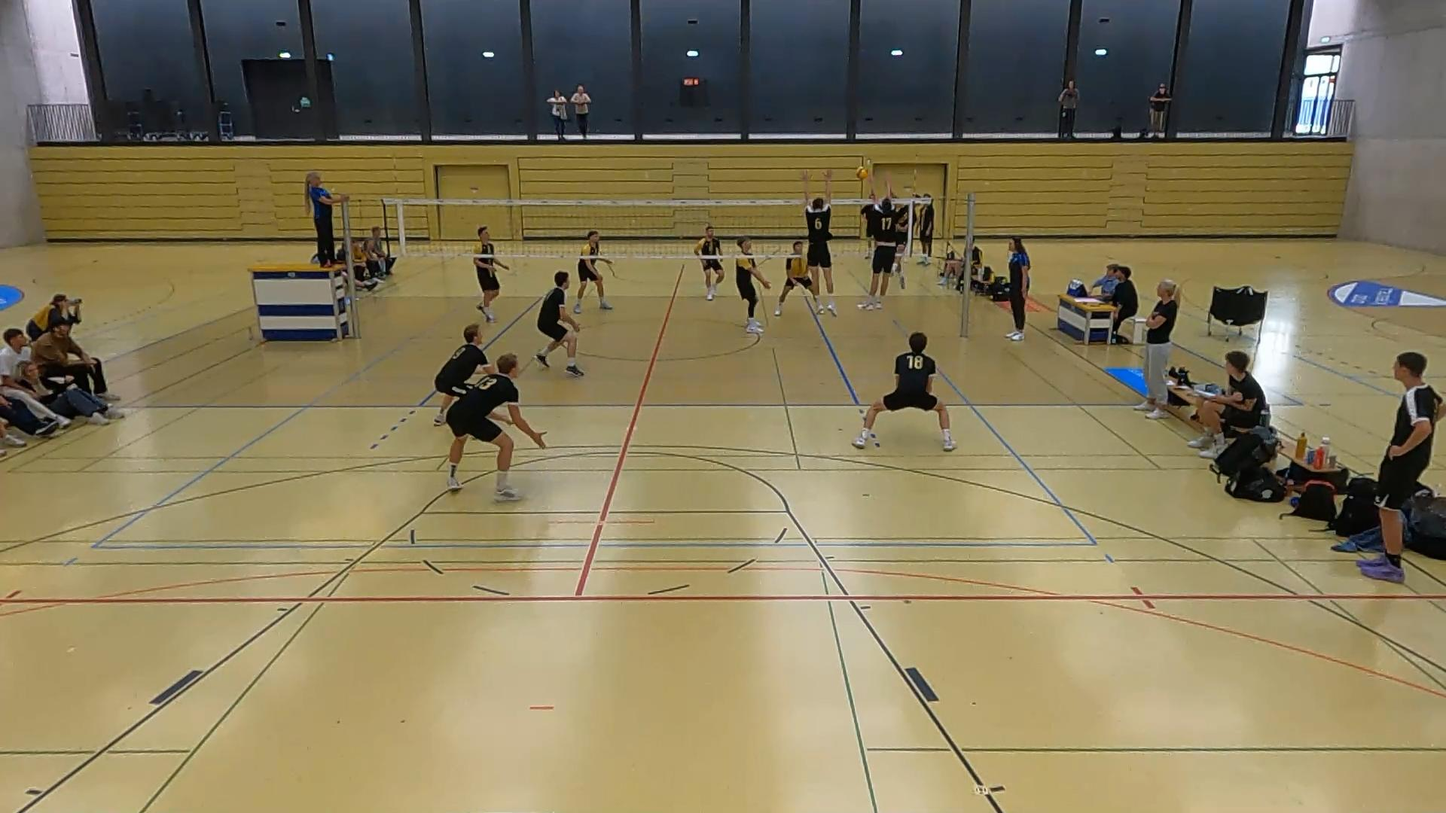attacco: (889, 181, 924, 287)
muro: (847, 181, 908, 316), (799, 175, 844, 302)
